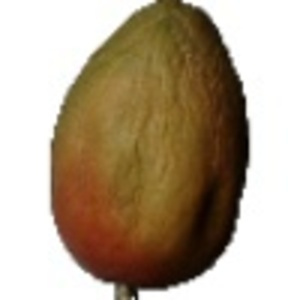mamão: (43, 2, 252, 291)
